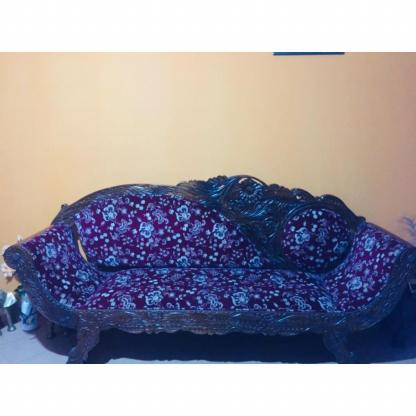Sofa: (3, 174, 411, 362)
